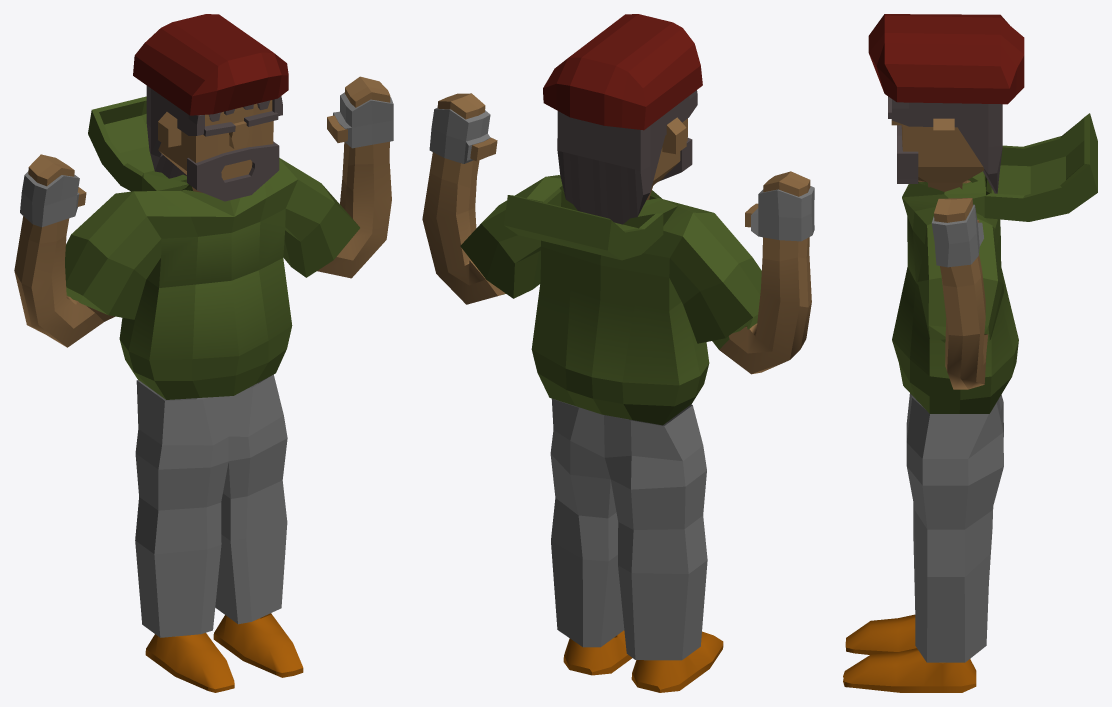
Rendered from RAMIRO3.fbx.
3 views of the same model, side by side, from view 1: azimuth 30°, elevation 25°; view 2: azimuth 150°, elevation 25°; view 3: azimuth 270°, elevation 25° (orthographic). The views are drawn at different scales.
Visible parts, largest first — view 1: VagabundoCapucha, VagabundoPantalon, VabundoBrazo, VagabundoGorro, VagabundoPies, VagabundoCara, VagabundoBarba, VagabundoPelo, VagabundoGuante2, VagabundoGuante1; view 2: VagabundoCapucha, VagabundoPantalon, VabundoBrazo, VagabundoGorro, VagabundoPelo, VagabundoPies, VagabundoGuante2, VagabundoGuante1, VagabundoCara; view 3: VagabundoCapucha, VagabundoPantalon, VagabundoGorro, VagabundoPies, VabundoBrazo, VagabundoPelo, VagabundoCara, VagabundoGuante1, VagabundoBarba.
Boxes of the visible parts, x1,y1,x2,y2 form: VagabundoCapucha: [65, 96, 359, 399]; VagabundoPantalon: [135, 374, 287, 637]; VabundoBrazo: [14, 76, 391, 347]; VagabundoGorro: [133, 14, 288, 115]; VagabundoPies: [145, 613, 303, 692]; VagabundoCara: [158, 100, 273, 192]; VagabundoBarba: [187, 141, 279, 201]; VagabundoPelo: [146, 85, 282, 178]; VagabundoGuante2: [20, 171, 79, 227]; VagabundoGuante1: [333, 92, 393, 148]; VagabundoCapucha: [460, 175, 761, 425]; VagabundoPantalon: [550, 398, 707, 660]; VabundoBrazo: [422, 93, 811, 374]; VagabundoGorro: [543, 14, 702, 130]; VagabundoPelo: [557, 90, 697, 224]; VagabundoPies: [563, 630, 723, 692]; VagabundoGuante2: [751, 186, 814, 241]; VagabundoGuante1: [429, 107, 490, 163]; VagabundoCara: [646, 117, 687, 200]; VagabundoCapucha: [892, 113, 1097, 413]; VagabundoPantalon: [906, 393, 1003, 662]; VagabundoGorro: [868, 14, 1024, 104]; VagabundoPies: [843, 614, 976, 692]; VabundoBrazo: [933, 180, 988, 389]; VagabundoPelo: [892, 99, 1002, 193]; VagabundoCara: [891, 118, 984, 191]; VagabundoGuante1: [931, 204, 983, 267]; VagabundoBarba: [897, 125, 918, 183].
Bounding box in the file's own units: 351 × 558 × 201.
